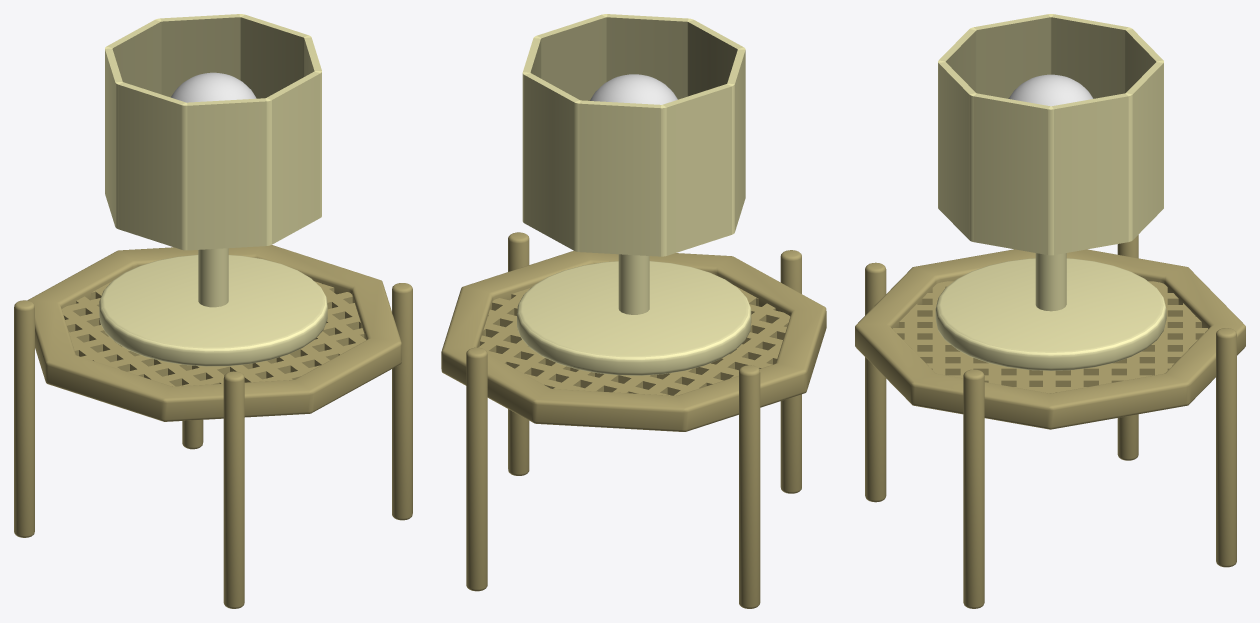
File: Lamp.fbx
3 views of the same model, side by side, from view 1: azimuth 30°, elevation 25°; view 2: azimuth 150°, elevation 25°; view 3: azimuth 270°, elevation 25° (orthographic). The views are drawn at different scales.
Visible parts, largest first — view 1: Lamp.001, LampDesk, Lamp.003, LampDesk.003, LampDesk.001, LampDesk.004, Lamp, Lamp.002, LampDesk.002; view 2: Lamp.001, LampDesk, Lamp.003, LampDesk.002, LampDesk.001, LampDesk.003, LampDesk.004, Lamp, Lamp.002; view 3: Lamp.001, LampDesk, Lamp.003, LampDesk.004, LampDesk.002, LampDesk.003, Lamp, Lamp.002, LampDesk.001.
Boxes of the visible parts, x1=… form: Lamp.001: x1=105, y1=14, x2=321, y2=250; LampDesk: x1=27, y1=245, x2=401, y2=421; Lamp.003: x1=99, y1=254, x2=327, y2=366; LampDesk.003: x1=223, y1=371, x2=244, y2=608; LampDesk.001: x1=14, y1=300, x2=34, y2=537; LampDesk.004: x1=392, y1=283, x2=412, y2=520; Lamp: x1=171, y1=72, x2=256, y2=102; Lamp.002: x1=198, y1=248, x2=228, y2=307; LampDesk.002: x1=182, y1=420, x2=203, y2=449; Lamp.001: x1=522, y1=14, x2=745, y2=256; LampDesk: x1=441, y1=251, x2=826, y2=431; Lamp.003: x1=517, y1=261, x2=751, y2=375; LampDesk.002: x1=466, y1=347, x2=487, y2=591; LampDesk.001: x1=739, y1=365, x2=760, y2=608; LampDesk.003: x1=780, y1=250, x2=801, y2=493; LampDesk.004: x1=508, y1=232, x2=529, y2=475; Lamp: x1=590, y1=74, x2=677, y2=104; Lamp.002: x1=618, y1=254, x2=649, y2=314; Lamp.001: x1=938, y1=14, x2=1163, y2=255; LampDesk: x1=855, y1=249, x2=1245, y2=429; Lamp.003: x1=935, y1=258, x2=1166, y2=370; LampDesk.004: x1=963, y1=369, x2=984, y2=608; LampDesk.002: x1=1216, y1=328, x2=1236, y2=567; LampDesk.003: x1=865, y1=262, x2=886, y2=502; Lamp: x1=1008, y1=74, x2=1093, y2=106; Lamp.002: x1=1035, y1=253, x2=1066, y2=311; LampDesk.001: x1=1117, y1=235, x2=1138, y2=460.
Bounding box in the file's own units: 228 × 302 × 228.
